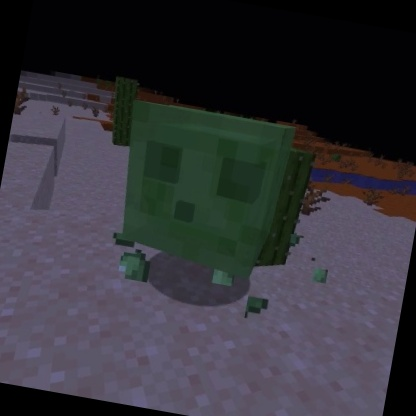slime: (103, 94, 301, 287)
